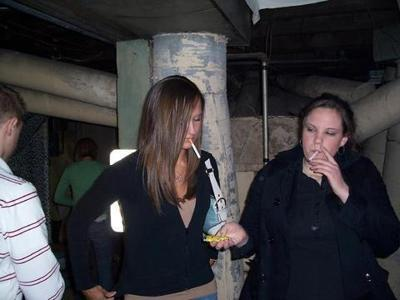person: (52, 73, 223, 300)
